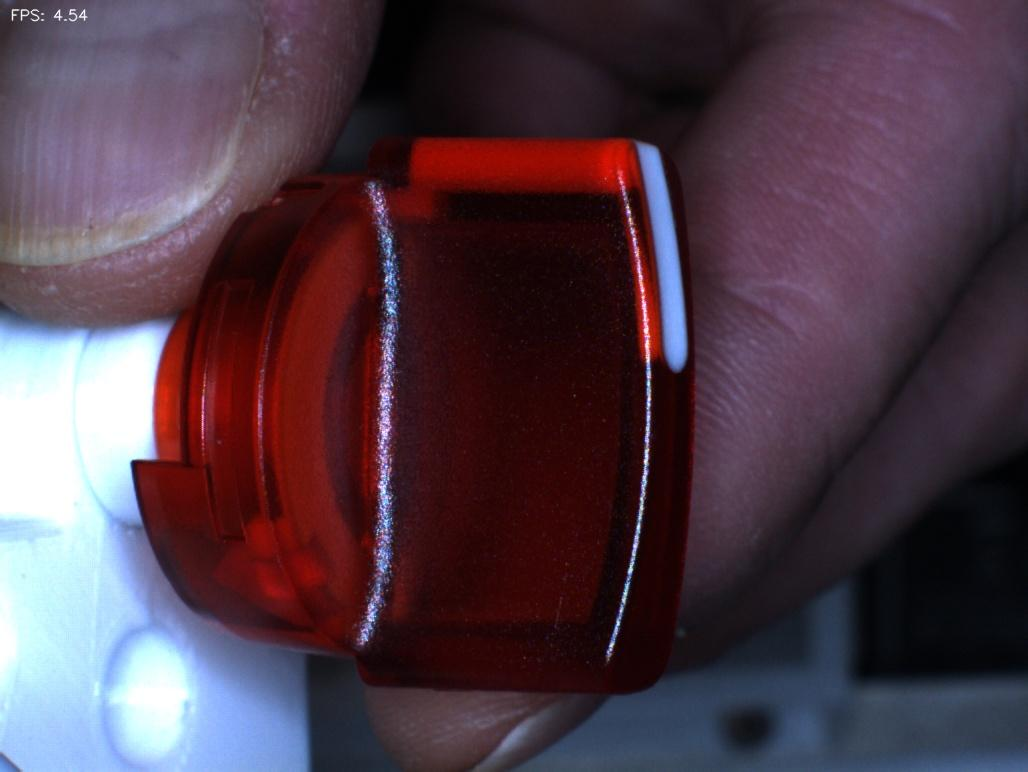Givrage: (540, 548, 601, 666)
